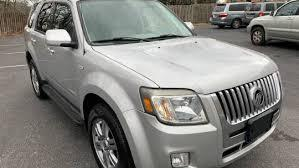Mercury: (244, 83, 273, 113)
